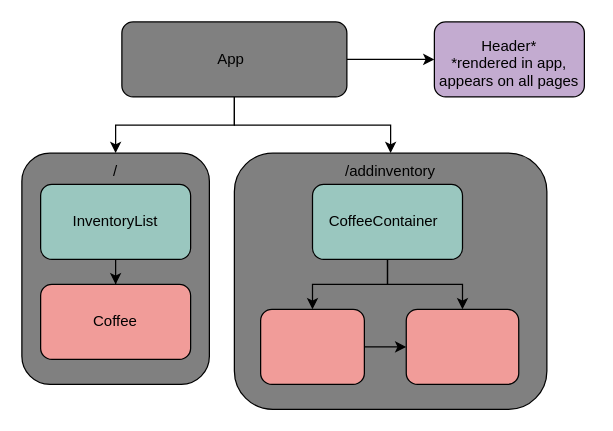
The diagram is 613 pixels wide and 431 high, and some of its shapes have lost their labels. The centre of each missing label's shape, as x and y in pixels:
"AddInventory" belongs at [462,346].
"AdminLogin" belongs at [311,346].
